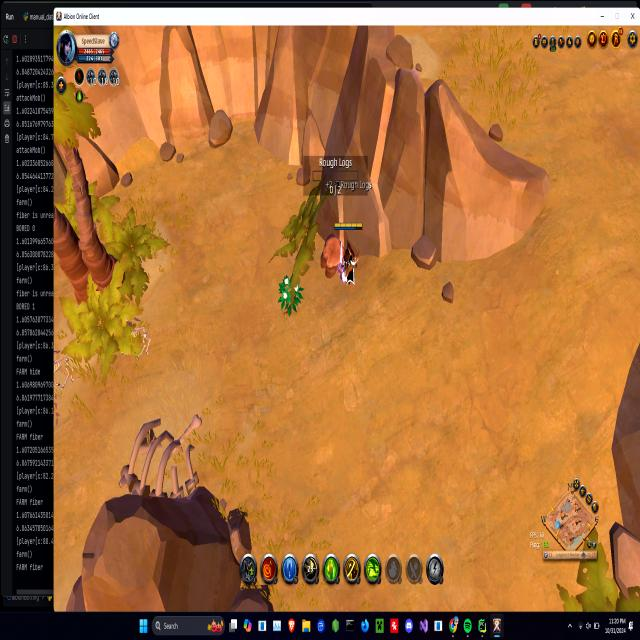hide: (278, 273, 302, 316)
red: (335, 220, 362, 284)
